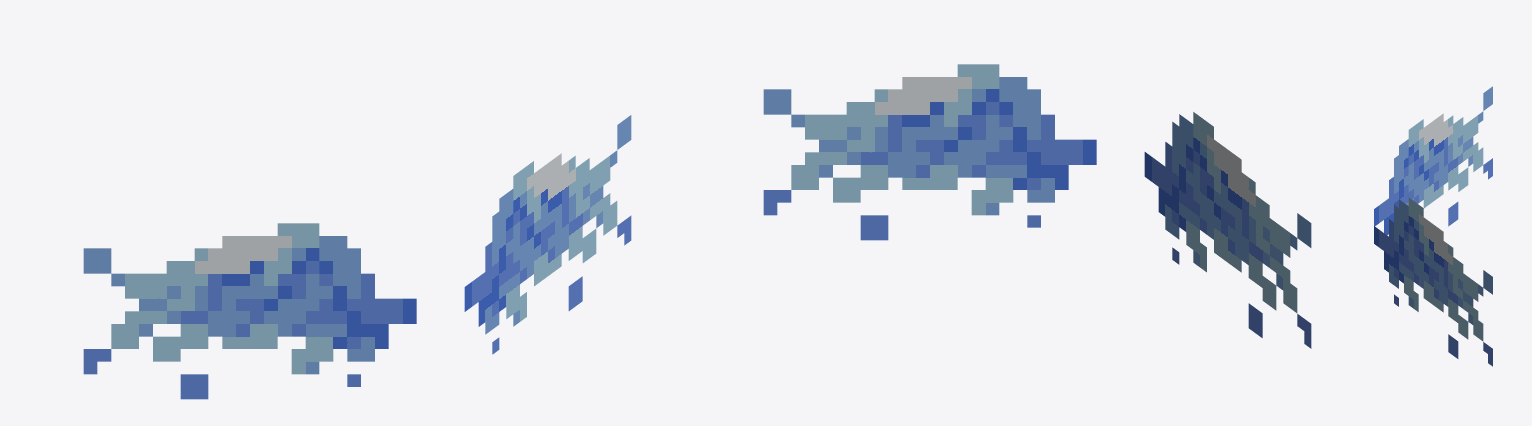
Rendered from sl_legacy_fire_wings.glb.
The picture shows the model from 3 angles, left to right: view 1: azimuth 30°, elevation 25°; view 2: azimuth 150°, elevation 25°; view 3: azimuth 270°, elevation 25°; orthographic projection. The views are drawn at different scales.
Parts seen in each view (by area): view 1: bb_legacy_fire_wings; view 2: bb_legacy_fire_wings; view 3: bb_legacy_fire_wings.
Part boxes in pixels (<box>): bb_legacy_fire_wings: <box>83,115,631,399</box>; bb_legacy_fire_wings: <box>763,64,1311,348</box>; bb_legacy_fire_wings: <box>1374,86,1492,366</box>.
Bounding box in the file's own units: 3.39 × 1.19 × 0.9062.
Materials: 1 (1 with a texture image).
